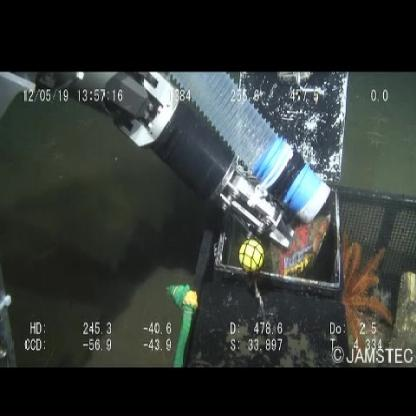Rov: (1, 71, 326, 249)
Rác: (270, 215, 334, 278)
